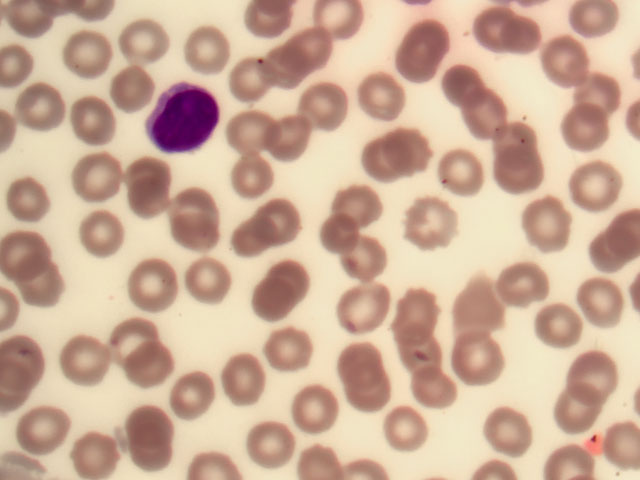RBC: (58, 30, 114, 83), (120, 16, 176, 69), (106, 60, 162, 113), (67, 94, 123, 147), (17, 78, 73, 131), (67, 146, 123, 199), (119, 145, 175, 198), (124, 172, 180, 225), (77, 208, 133, 261), (1, 174, 57, 227), (15, 259, 71, 312), (124, 259, 180, 312), (178, 252, 234, 305), (165, 215, 221, 268), (166, 178, 222, 231), (218, 206, 274, 259), (258, 194, 314, 247), (227, 156, 283, 209), (220, 109, 276, 162), (257, 118, 313, 171), (299, 74, 355, 127), (210, 49, 266, 102), (185, 28, 241, 81), (263, 50, 319, 103), (285, 25, 341, 78), (392, 38, 448, 91), (404, 15, 460, 68), (356, 68, 412, 121), (385, 122, 441, 175), (357, 134, 413, 187), (327, 173, 383, 226), (316, 214, 372, 267), (347, 240, 403, 293), (238, 274, 294, 327), (269, 246, 325, 299), (120, 343, 176, 396), (109, 318, 165, 371), (62, 335, 118, 388), (22, 405, 78, 458), (71, 427, 127, 480), (119, 427, 175, 480), (121, 393, 177, 446), (162, 367, 218, 420), (214, 348, 270, 401), (262, 323, 318, 376), (333, 283, 389, 336), (383, 286, 439, 339), (386, 322, 442, 375), (404, 365, 460, 418), (376, 410, 432, 463), (340, 371, 396, 424), (330, 336, 386, 389), (283, 381, 339, 434), (244, 416, 300, 469), (479, 404, 535, 457), (449, 330, 505, 383), (445, 283, 501, 336), (502, 260, 558, 313), (401, 198, 457, 251), (426, 146, 482, 199), (488, 151, 544, 204), (493, 116, 549, 169), (457, 91, 513, 144), (440, 64, 496, 117), (501, 17, 557, 70), (465, 3, 521, 56), (548, 28, 604, 81), (572, 65, 628, 118), (560, 107, 616, 160), (571, 157, 627, 210), (519, 198, 575, 251), (574, 277, 630, 330), (535, 300, 591, 353), (565, 347, 621, 400), (542, 385, 598, 438), (1, 224, 56, 277), (549, 442, 587, 480), (602, 427, 640, 465)
WBC: (147, 82, 220, 157)
